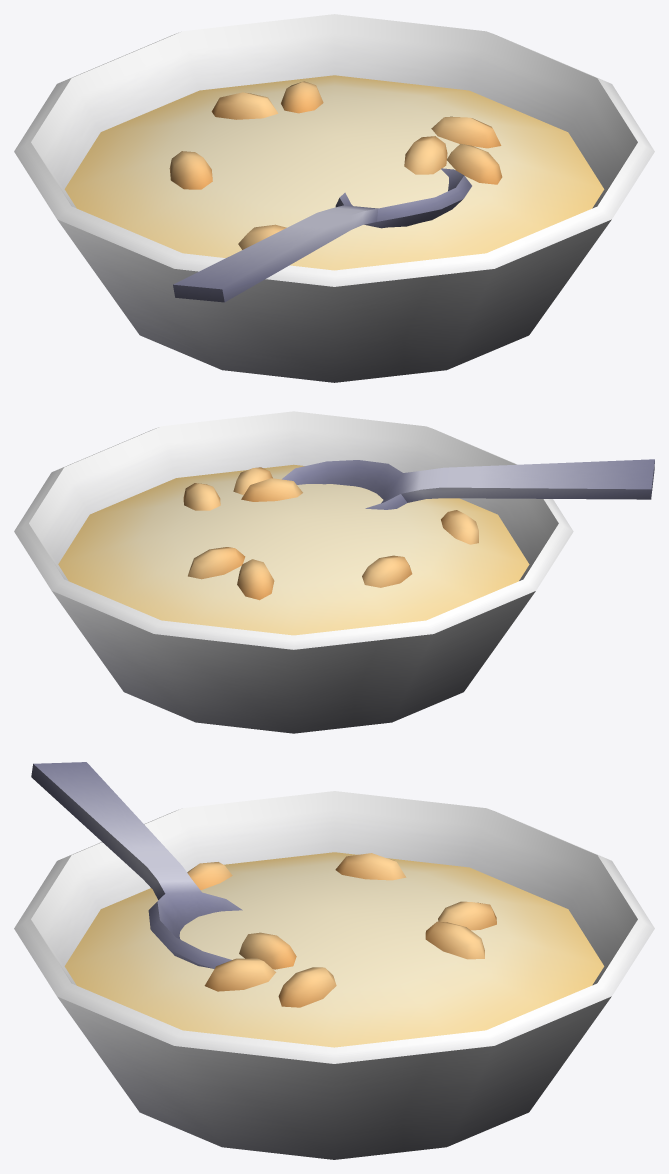
Rendered from m_RicePudding01_Plain.fbx.
The picture shows the model from 3 angles, top to bottom: view 1: azimuth 30°, elevation 25°; view 2: azimuth 150°, elevation 25°; view 3: azimuth 270°, elevation 25°; orthographic projection. The views are drawn at different scales.
Visible parts, largest first — view 1: m_RicePudding01_Plain; view 2: m_RicePudding01_Plain; view 3: m_RicePudding01_Plain.
Part boxes in pixels (x1,y1,x2,y2): m_RicePudding01_Plain: (14, 14, 654, 382); m_RicePudding01_Plain: (14, 411, 654, 733); m_RicePudding01_Plain: (14, 762, 654, 1159).
Bounding box in the file's own units: 20.24 × 5.94 × 19.96.
